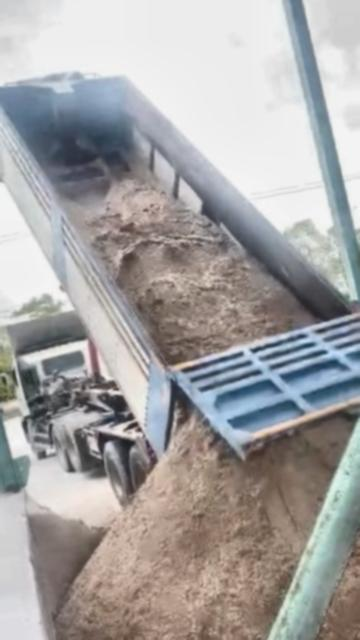sand: (59, 418, 352, 640), (66, 177, 314, 362), (295, 440, 360, 640), (30, 500, 102, 619)
